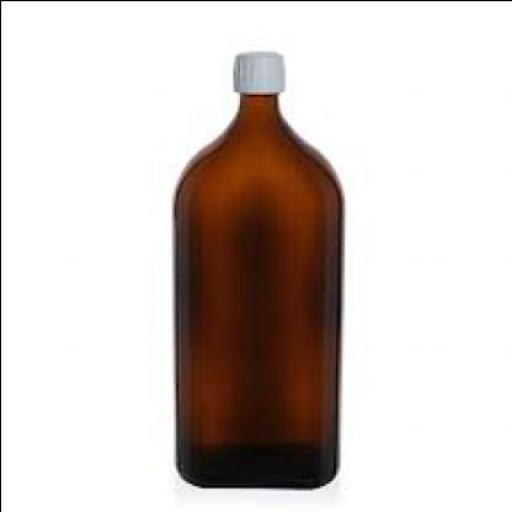glass: (175, 91, 346, 485)
plastic: (237, 48, 286, 91)
